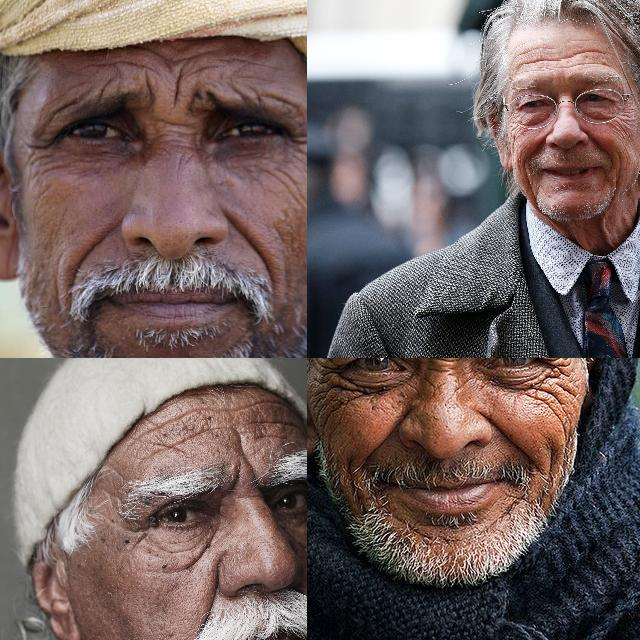chin: (392, 510, 430, 540)
crows_feet: (313, 358, 346, 405), (545, 358, 579, 395), (26, 133, 62, 165), (124, 517, 148, 549), (286, 127, 307, 158)
forehead: (143, 418, 180, 460), (260, 413, 300, 445), (184, 406, 214, 446), (579, 44, 607, 70), (150, 48, 186, 68), (226, 50, 258, 72), (104, 54, 140, 70), (516, 44, 538, 70), (91, 78, 112, 104), (222, 399, 254, 415), (548, 47, 574, 65), (188, 60, 216, 74)
frown_line: (233, 438, 255, 486), (419, 358, 456, 382), (170, 72, 186, 106), (140, 78, 158, 104)
gummy_smile: (484, 412, 532, 458), (70, 221, 111, 273), (362, 412, 402, 462), (232, 216, 266, 272), (201, 576, 223, 628), (590, 128, 612, 156), (528, 134, 548, 158)
masseter: (541, 440, 559, 490), (318, 413, 338, 453), (186, 542, 208, 572), (506, 116, 524, 152), (610, 167, 626, 206), (616, 111, 638, 139), (521, 166, 539, 194)
